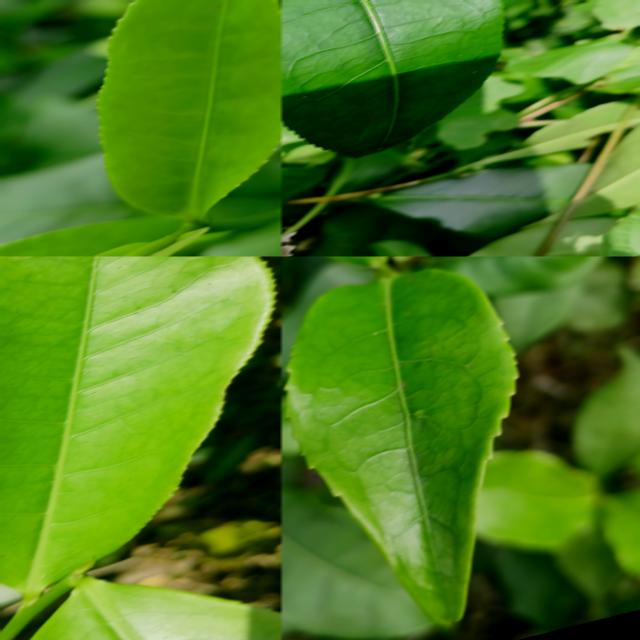Leaf: (0, 256, 271, 597), (284, 269, 517, 622), (97, 0, 282, 218), (280, 0, 503, 156), (280, 487, 431, 639), (28, 575, 282, 640), (374, 162, 588, 238), (475, 449, 598, 550), (571, 347, 640, 475), (0, 216, 209, 256), (429, 256, 602, 295), (575, 122, 640, 215), (555, 526, 622, 599), (599, 487, 640, 577), (280, 396, 300, 455)
